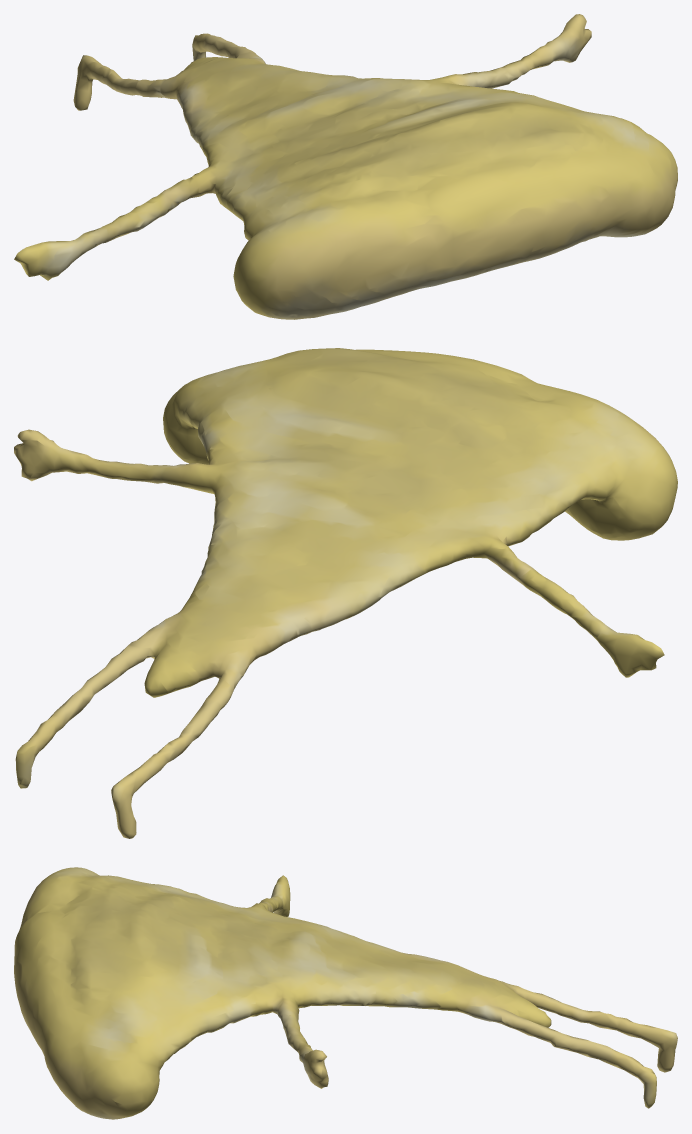
The picture shows the model from 3 angles, top to bottom: view 1: azimuth 30°, elevation 25°; view 2: azimuth 150°, elevation 25°; view 3: azimuth 270°, elevation 25°; orthographic projection. The views are drawn at different scales.
Visible parts, largest first — view 1: LOD 0_12217630209747545319_820756dedd5b3434c8e6bed8ae6a193b; view 2: LOD 0_12217630209747545319_820756dedd5b3434c8e6bed8ae6a193b; view 3: LOD 0_12217630209747545319_820756dedd5b3434c8e6bed8ae6a193b.
Boxes of the visible parts, bbox=[...] form: LOD 0_12217630209747545319_820756dedd5b3434c8e6bed8ae6a193b: bbox=[14, 14, 677, 319]; LOD 0_12217630209747545319_820756dedd5b3434c8e6bed8ae6a193b: bbox=[14, 348, 677, 838]; LOD 0_12217630209747545319_820756dedd5b3434c8e6bed8ae6a193b: bbox=[14, 867, 677, 1119].
Size of the model in its own units: 5.09 by 1.62 by 5.67.
